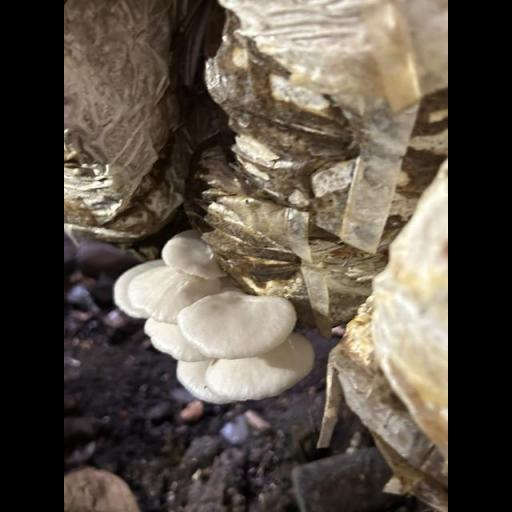White Oyster Mushroom: (111, 218, 319, 430)
